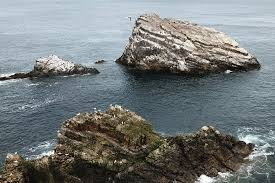obstacle: (116, 16, 259, 73)
